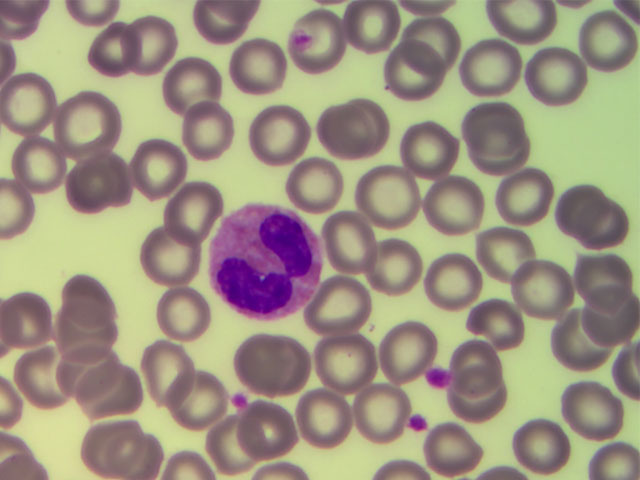Platelets: (424, 367, 450, 386), (410, 414, 431, 431), (229, 390, 251, 406)
RBC: (83, 21, 137, 77), (126, 15, 180, 71), (159, 56, 213, 112), (180, 106, 234, 162), (128, 135, 182, 191), (163, 189, 217, 245), (138, 225, 192, 281), (157, 285, 211, 341), (142, 337, 196, 393), (173, 374, 227, 430), (83, 420, 137, 476), (86, 363, 140, 419), (54, 343, 108, 399), (56, 311, 110, 367), (56, 273, 110, 329), (68, 164, 122, 220), (63, 92, 117, 148), (17, 141, 71, 197), (250, 100, 304, 156), (233, 49, 287, 105), (199, 1, 253, 57), (293, 11, 347, 67), (376, 44, 430, 100), (405, 20, 459, 76), (348, 94, 402, 150), (310, 102, 364, 158), (284, 152, 338, 208), (325, 214, 379, 270), (356, 169, 410, 225), (363, 236, 417, 292), (404, 123, 458, 179), (469, 92, 523, 148), (464, 38, 518, 94), (529, 48, 583, 104), (586, 14, 640, 70), (499, 168, 553, 224), (475, 135, 529, 191), (547, 176, 601, 232), (586, 204, 640, 260), (579, 247, 633, 303), (583, 288, 637, 344), (557, 307, 611, 363), (565, 385, 619, 441), (510, 420, 564, 476), (439, 373, 493, 429), (451, 343, 505, 399), (462, 302, 516, 358), (424, 249, 478, 305), (469, 230, 523, 286), (515, 262, 569, 318), (430, 180, 484, 236), (382, 313, 436, 369), (356, 384, 410, 440), (297, 391, 351, 447), (319, 332, 373, 388), (309, 276, 363, 332), (270, 333, 324, 389), (242, 337, 296, 393), (247, 400, 301, 456), (212, 418, 266, 474), (10, 350, 64, 406), (5, 289, 59, 345), (351, 1, 405, 56), (1, 74, 54, 130)
WBC: (207, 202, 320, 318)
